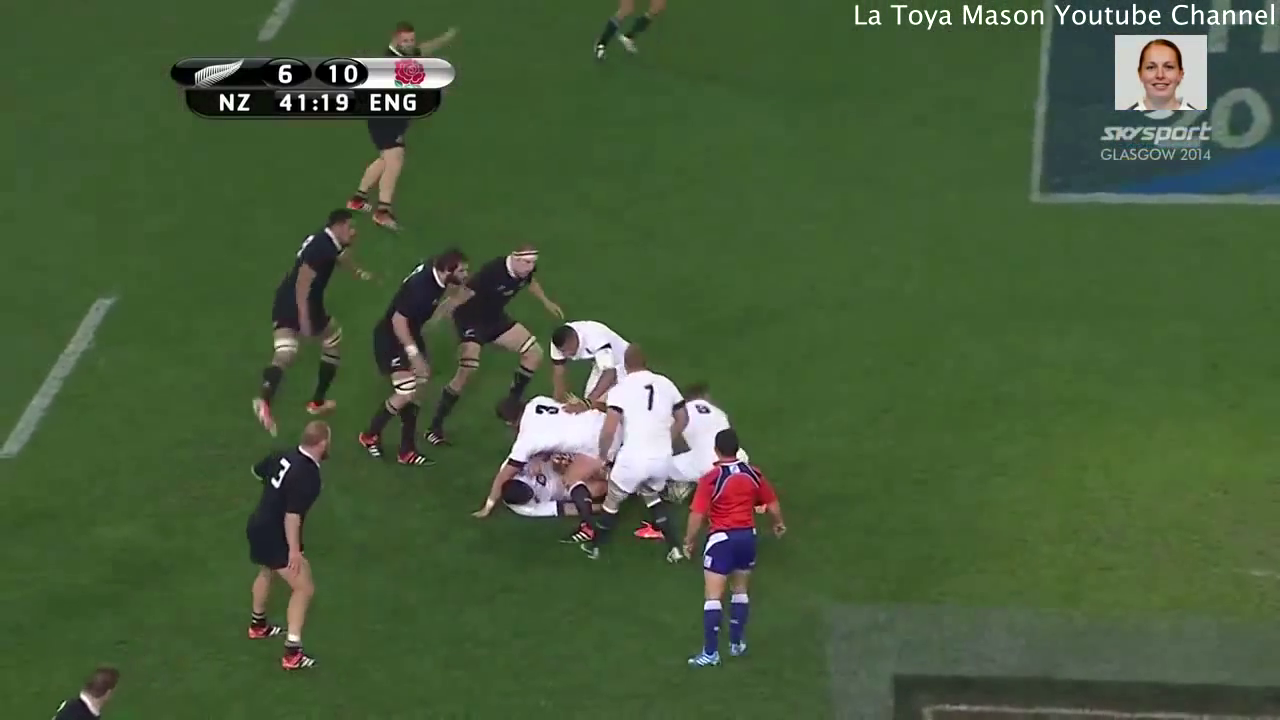player: (407, 231, 577, 456), (230, 199, 374, 445), (557, 337, 695, 580), (670, 423, 793, 684), (330, 13, 471, 236), (349, 232, 478, 474), (232, 412, 345, 676), (458, 388, 641, 528), (657, 372, 757, 507), (533, 306, 653, 400), (584, 1, 677, 74), (45, 668, 125, 720)
